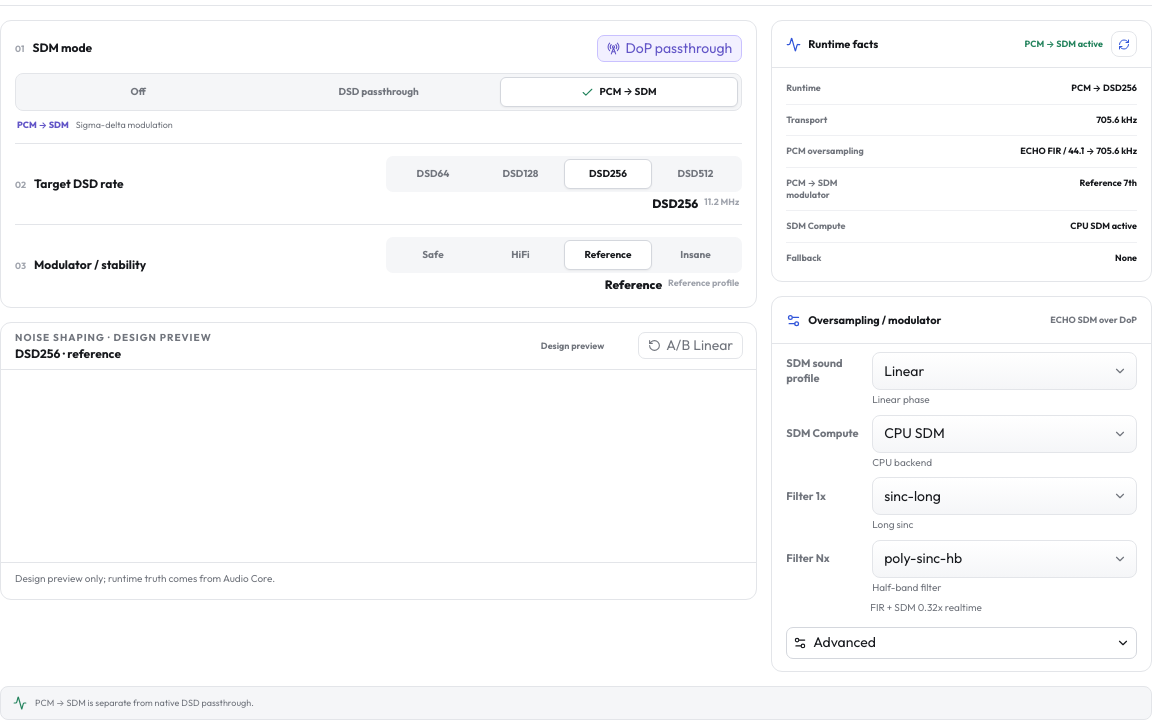
it: EchoSdmControlSurface › lets pointer and keyboard users inspect the noise-shaping preview
(page scrolled)
Step 1. Focus the picture named "Noise shaping · Design preview: dsd256 reference" → (379, 471), box [15,379,742,562]
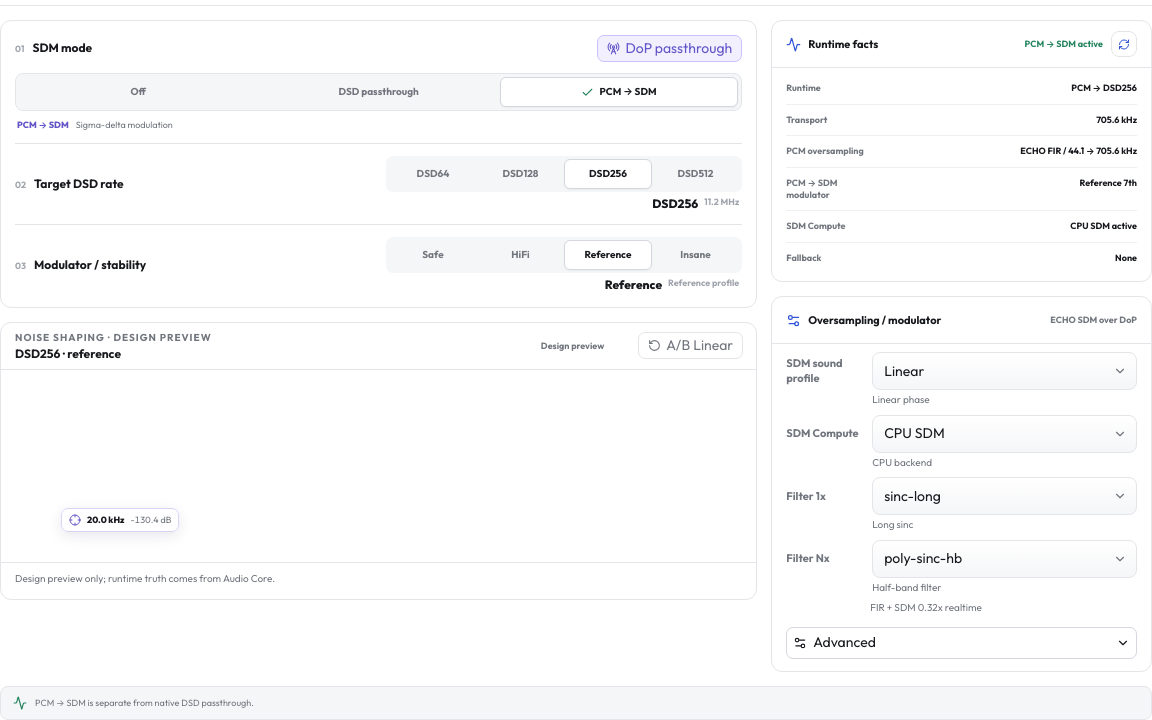
Now the text "20.0 kHz" is shown, box [87,514,124,526]
Now the text "-130.4 dB" is shown, box [130,514,171,526]
Step 2. Press End in the picture named "Noise shaping · Design preview: dsd256 reference", box [15,379,742,562]
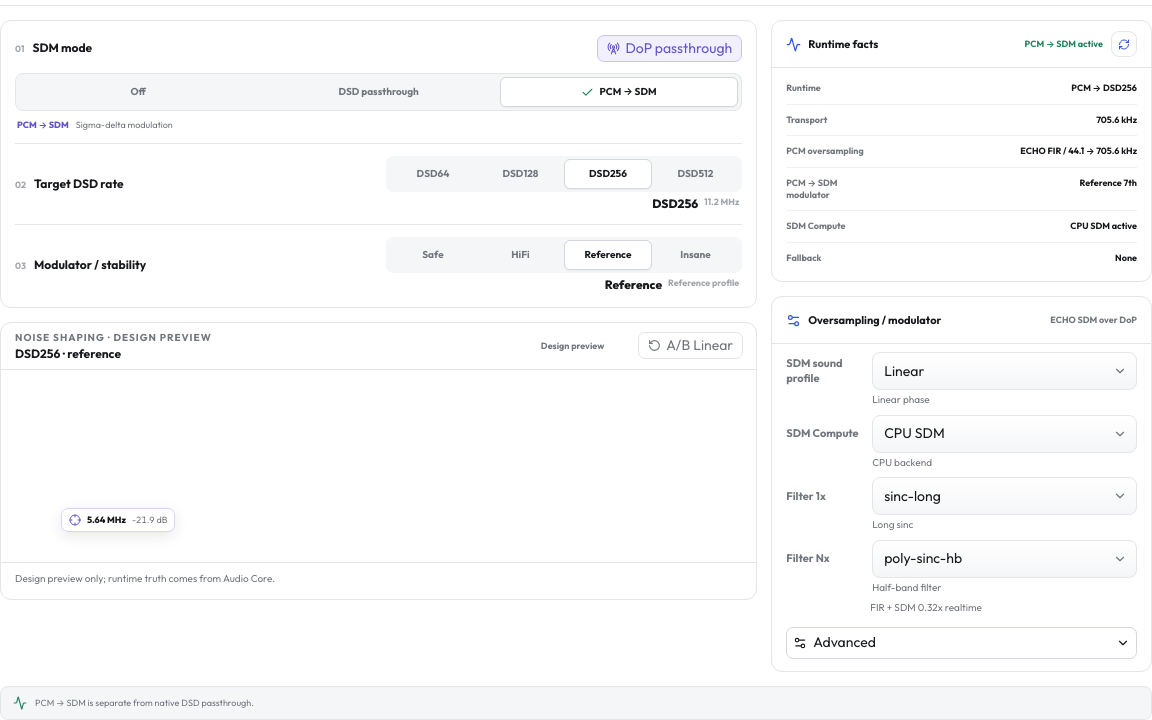
Now the text "5.64 MHz" is shown, box [87,514,126,526]
